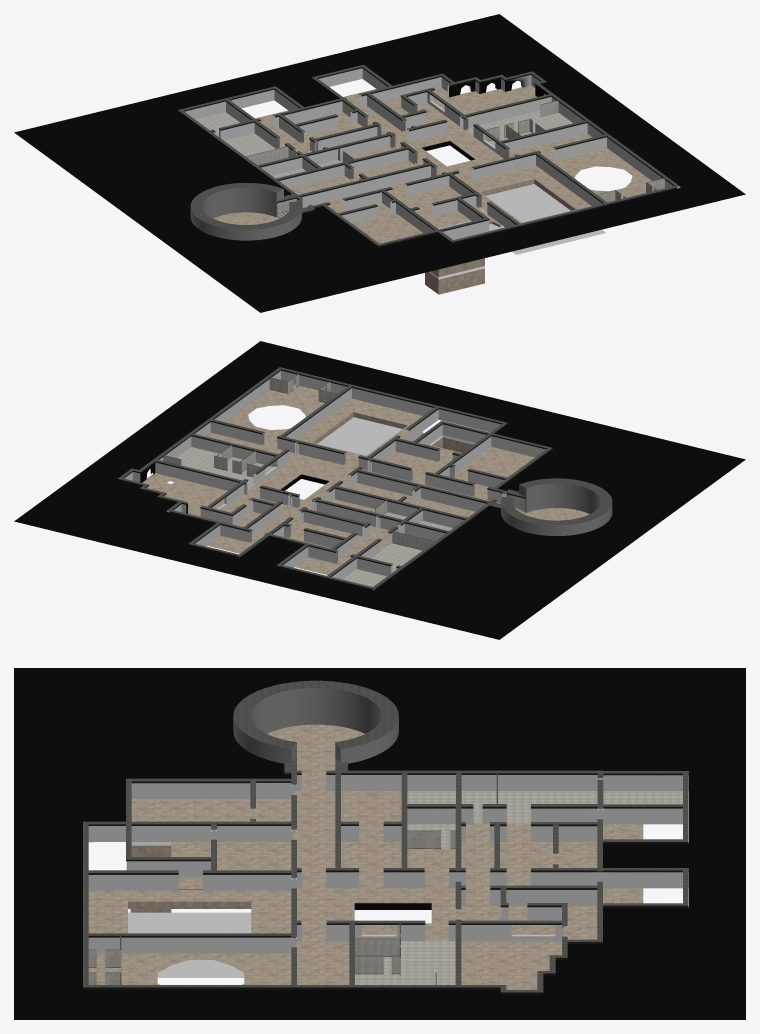
Rendered from floor_all.fbx.
3 renders of one model, top to bottom at view 1: azimuth 30°, elevation 25°; view 2: azimuth 150°, elevation 25°; view 3: azimuth 270°, elevation 25°, orthographic. The views are drawn at different scales.
Visible parts, largest first — view 1: black background, wall3, wall1, floor, wall003, florr_garden, floor_poll, lift_tube, floor_capsule, floor_canteene, floor_reactor; view 2: black background, wall3, wall1, floor, wall003, florr_garden, floor_poll, floor_capsule, floor_canteene, wall_regips, floor_reactor; view 3: black background, floor, wall3, wall1, wall003, florr_garden, floor_poll, floor_capsule, floor_canteene, floor_reactor, wall_regips, lift_tube.
Part boxes in pixels (box(x1,y1,x2,y2)): black background: box(14, 14, 745, 312); wall3: box(177, 86, 431, 240); wall1: box(273, 64, 680, 196); floor: box(255, 87, 592, 243); wall003: box(322, 151, 676, 247); florr_garden: box(464, 165, 605, 254); floor_poll: box(551, 148, 651, 198); lift_tube: box(425, 220, 484, 294); floor_capsule: box(433, 85, 536, 114); floor_canteene: box(195, 112, 275, 156); floor_reactor: box(213, 212, 279, 224); black background: box(14, 341, 745, 639); wall3: box(276, 469, 612, 590); wall1: box(117, 367, 412, 563); floor: box(176, 432, 534, 575); wall003: box(279, 368, 552, 488); florr_garden: box(296, 398, 424, 467); floor_poll: box(225, 384, 324, 447); floor_capsule: box(142, 473, 227, 516); floor_canteene: box(343, 543, 422, 586); wall_regips: box(269, 374, 337, 402); floor_reactor: box(523, 508, 589, 520); black background: box(14, 668, 745, 1019); floor: box(89, 779, 643, 984); wall3: box(233, 680, 688, 869); wall1: box(83, 819, 688, 994); wall003: box(83, 778, 296, 985); florr_garden: box(88, 890, 291, 977); floor_poll: box(88, 953, 291, 984); floor_capsule: box(461, 941, 561, 989); floor_canteene: box(498, 791, 682, 823); floor_reactor: box(267, 724, 364, 778); wall_regips: box(88, 936, 121, 984); lift_tube: box(130, 842, 171, 912).
Bounding box in the file's own units: 10151 × 1487 × 8927.
